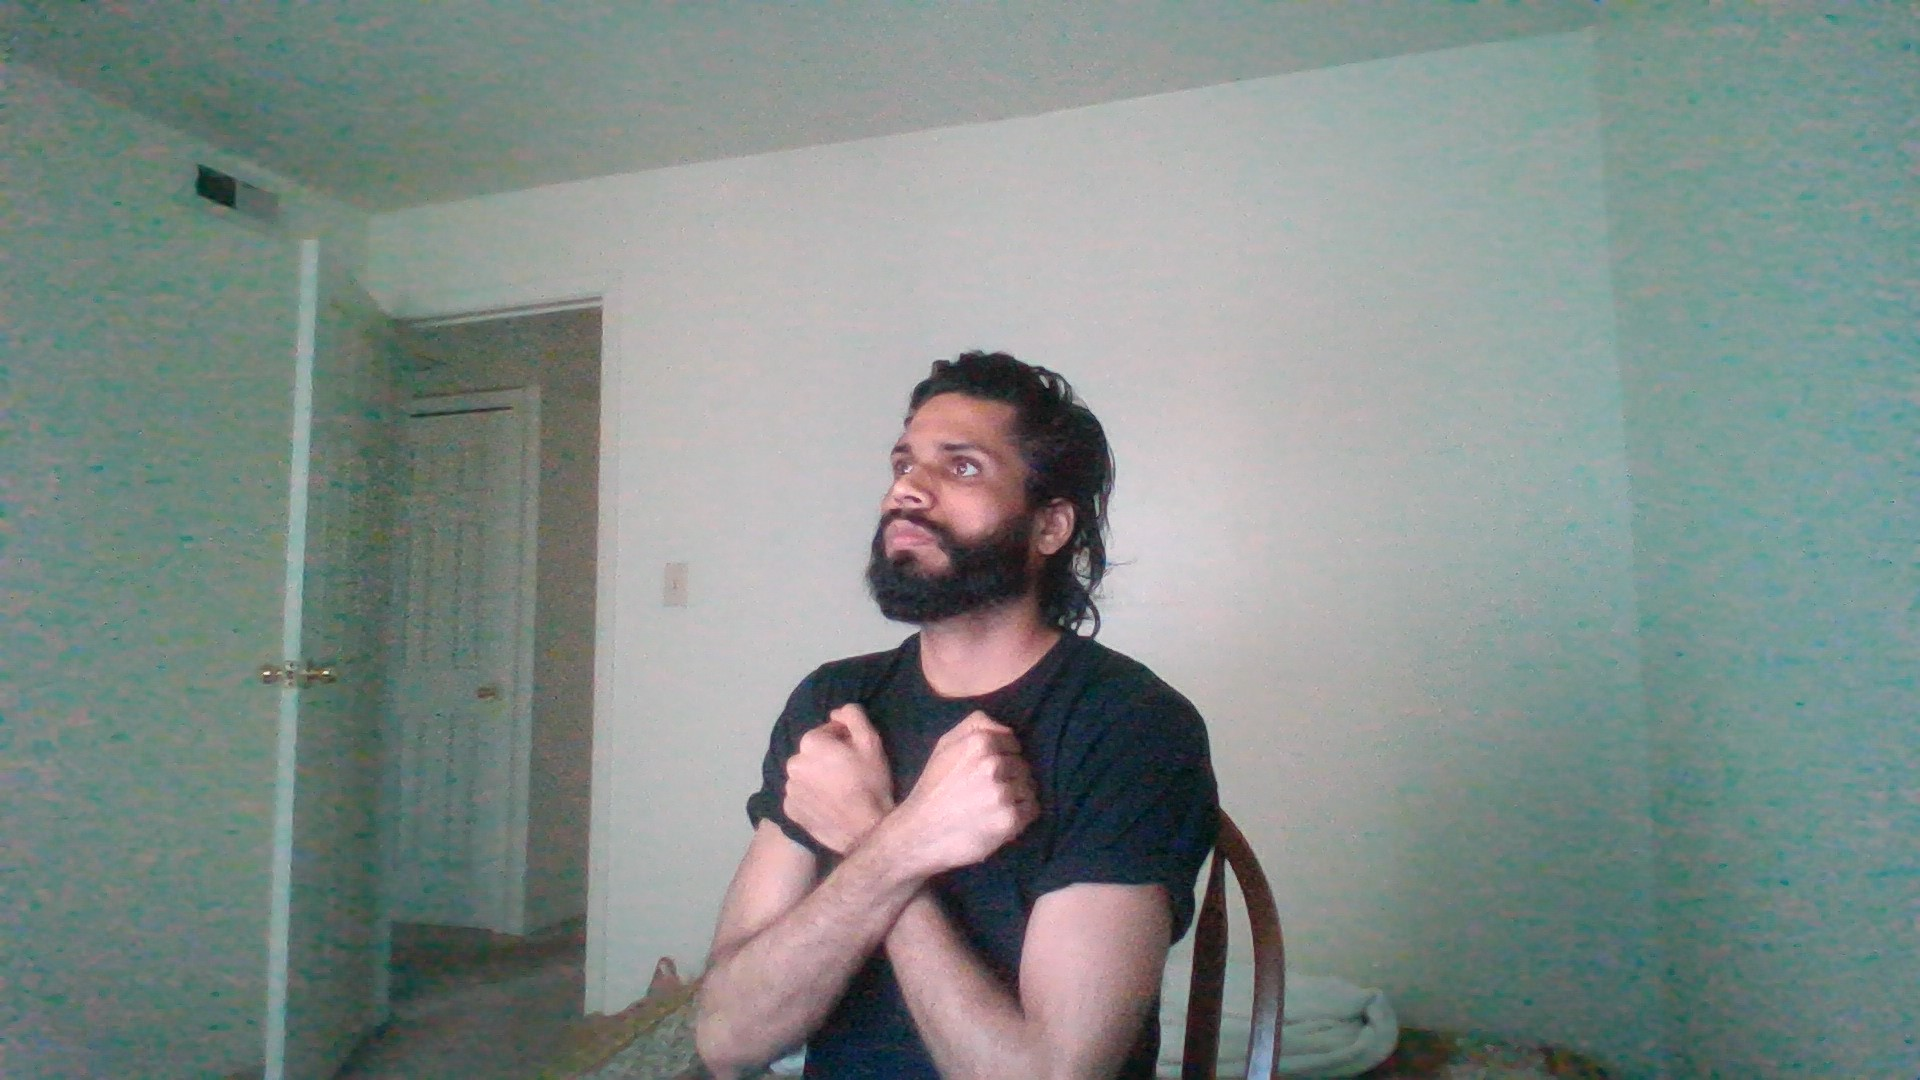Love: (775, 665, 1052, 1060)
